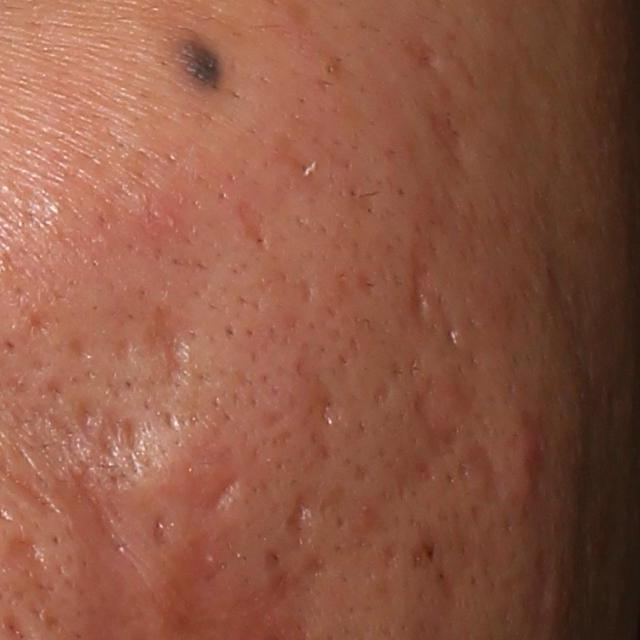atrophic_scar: (69, 404, 146, 459), (147, 310, 198, 383), (465, 439, 509, 509), (207, 470, 247, 523), (281, 490, 320, 543), (405, 248, 434, 316), (230, 195, 264, 245), (310, 378, 338, 431), (61, 328, 94, 365), (146, 514, 172, 554), (439, 316, 462, 344)
nevus: (171, 36, 217, 89)
papule: (509, 434, 542, 491)
